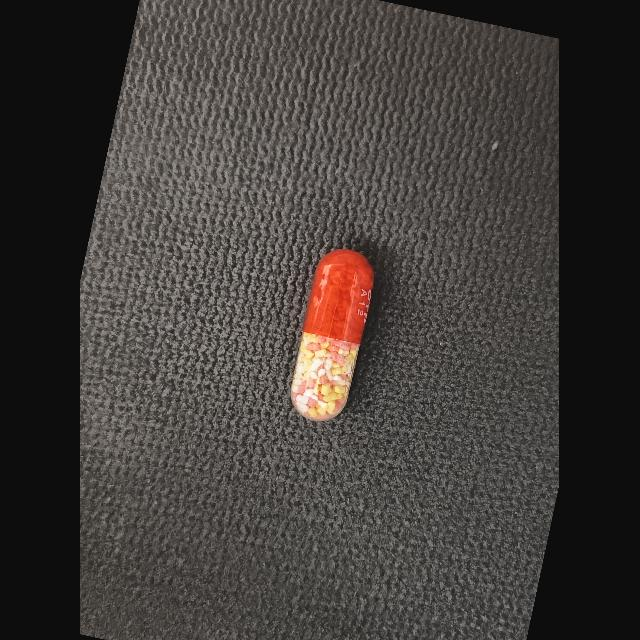Intact Capsule: (291, 249, 374, 421)
